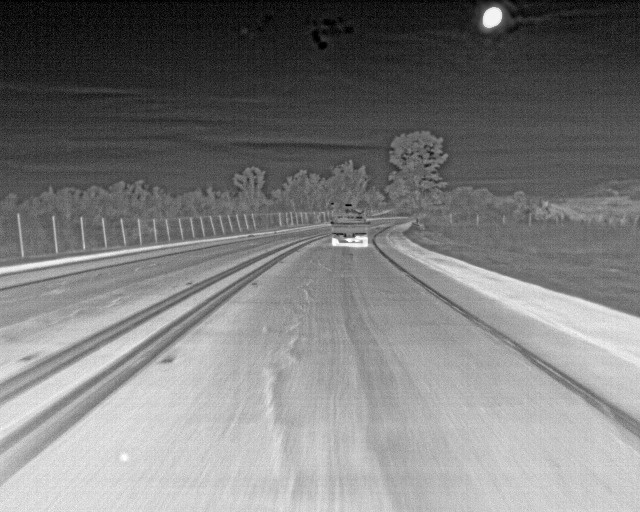vehicle: (332, 210, 371, 249)
